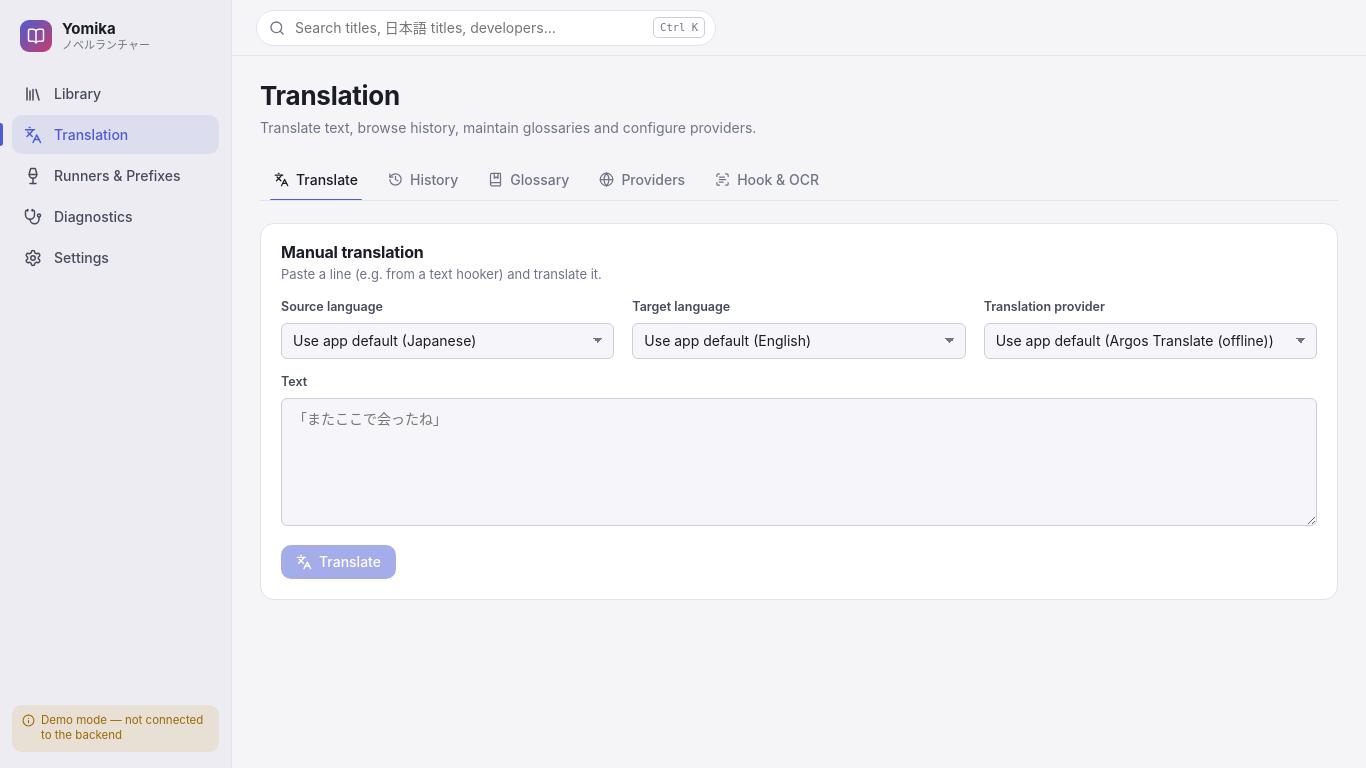
Translation page › translates manually and shows the provider
In the text box labelled "Text": (799, 462) [281,398,1317,526], type "桜の花びらが、静かに舞い落ちていく。"
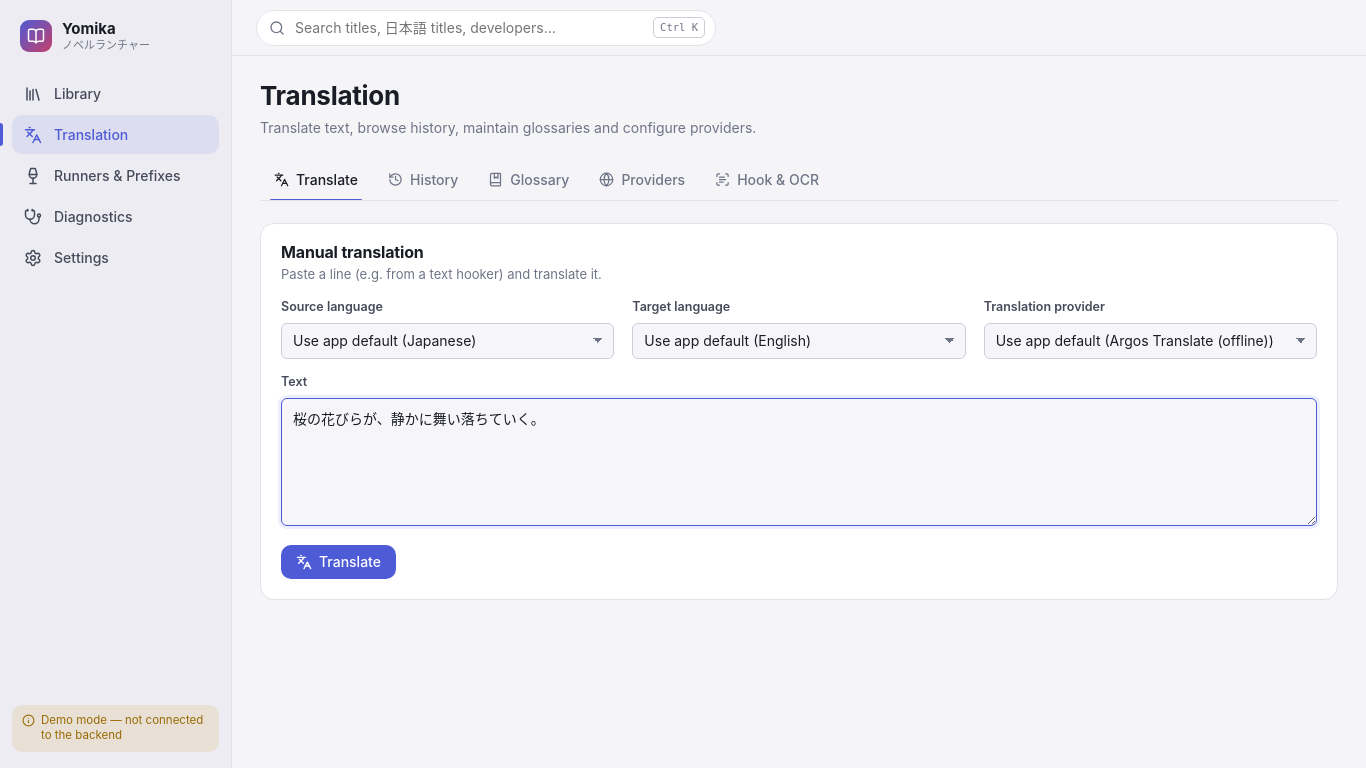
Click the button "Translate": (338, 562) [281,545,396,579]
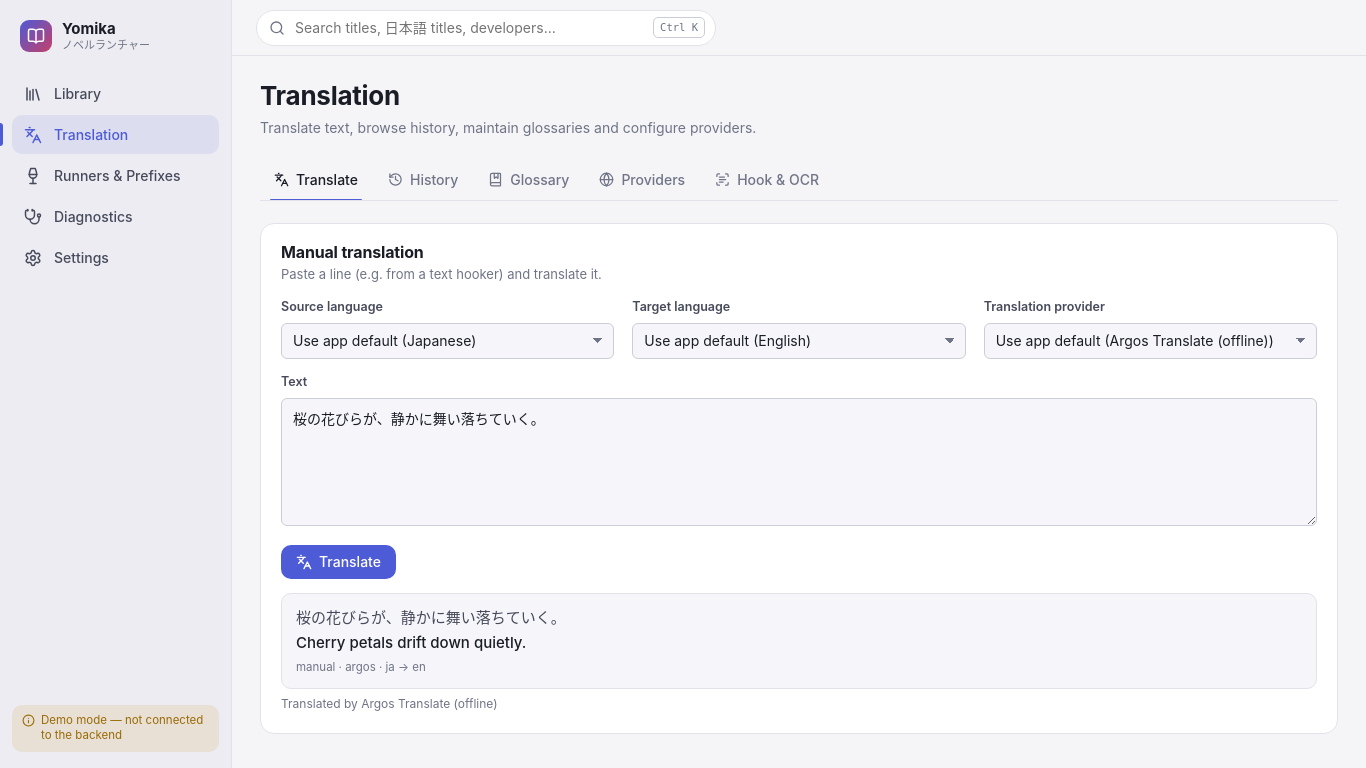
Expected: the text "Cherry petals drift down quietly." is shown, [296,633,526,652]
Expected: the text "Translated by Argos Translate (offline)" is shown, [281,696,498,711]
